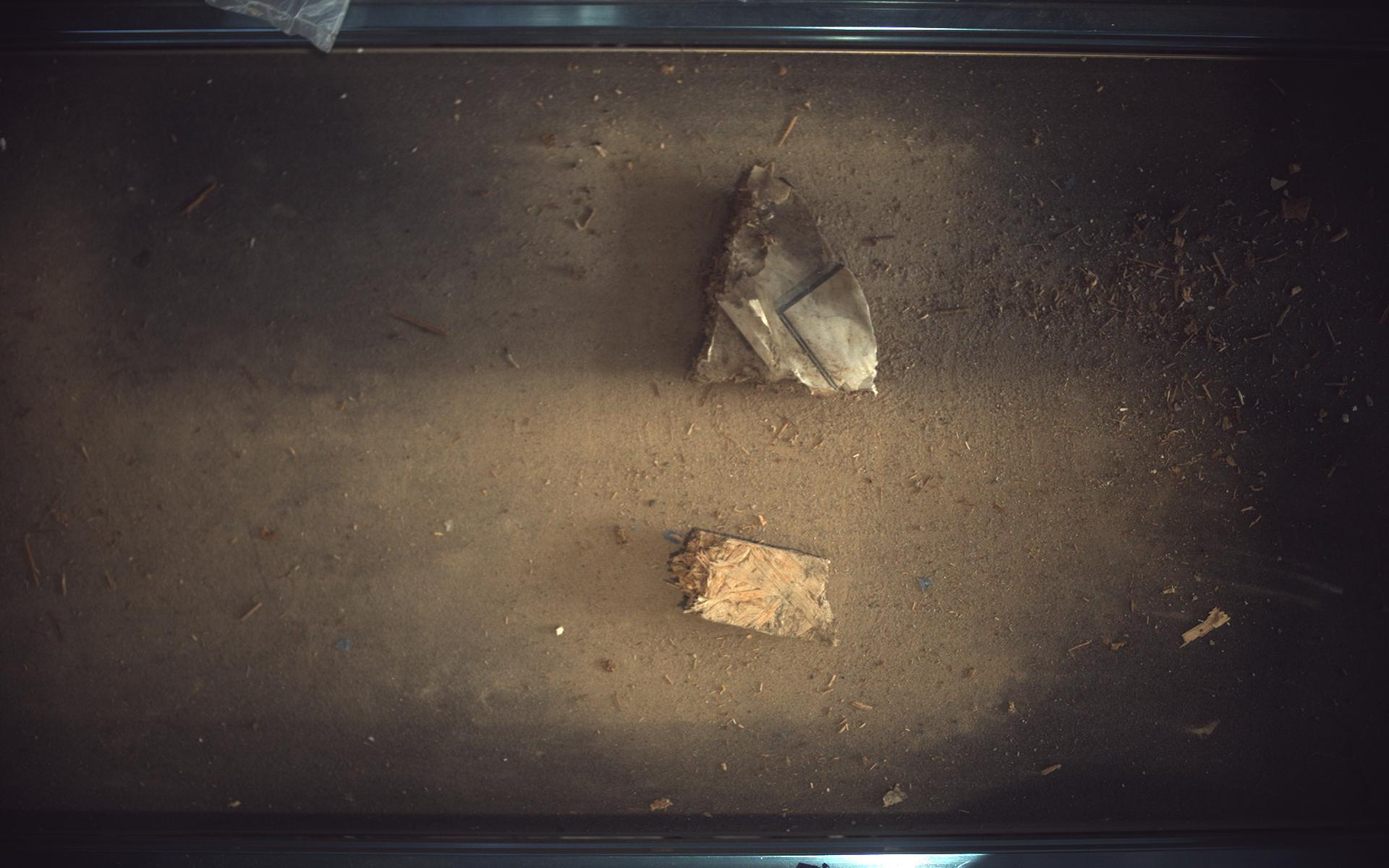wood: (694, 163, 878, 393), (671, 529, 834, 637)
